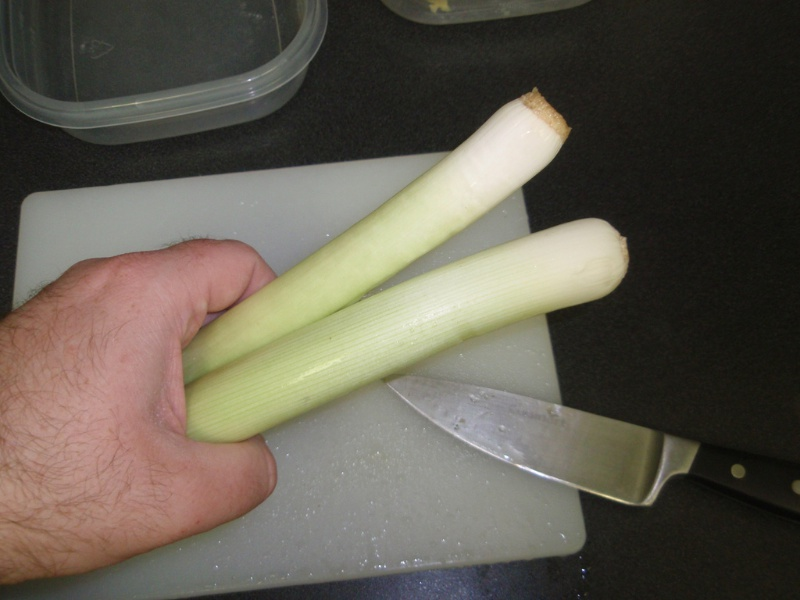knife: (380, 371, 800, 522)
